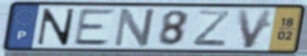8: (157, 9, 190, 47)
E: (71, 8, 118, 47)
N: (111, 7, 157, 49), (35, 7, 78, 46)
V: (234, 8, 276, 50)
Z: (190, 9, 233, 48)
